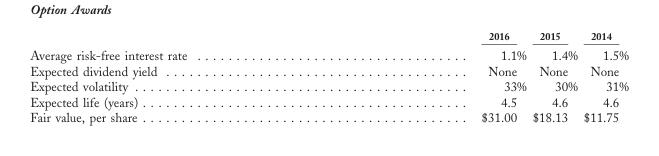table: (29, 28, 627, 124)
table column: (29, 28, 333, 124), (333, 28, 528, 124), (528, 28, 579, 124), (579, 28, 627, 124)
table column header: (29, 28, 627, 44)
table row: (29, 44, 627, 62), (29, 28, 627, 44), (29, 62, 627, 78), (29, 93, 627, 109), (29, 78, 627, 93), (29, 109, 627, 124)
